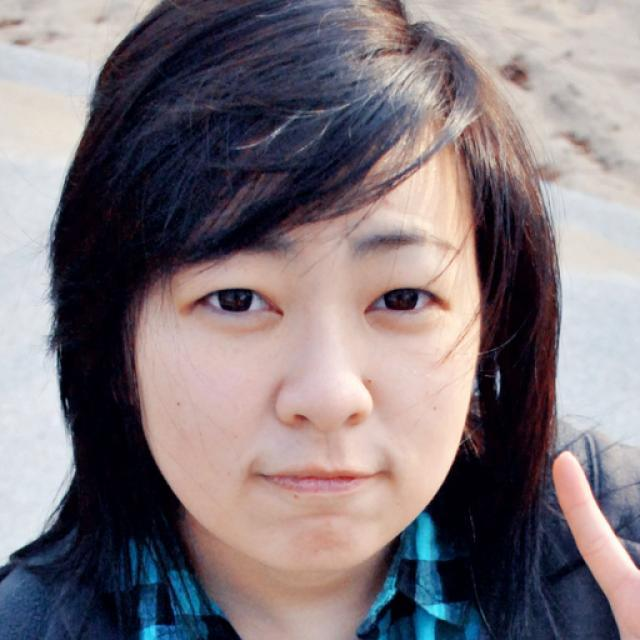neutral: (132, 127, 482, 578)
